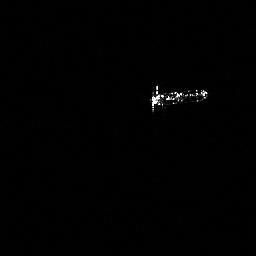ship: (145, 80, 211, 114)
